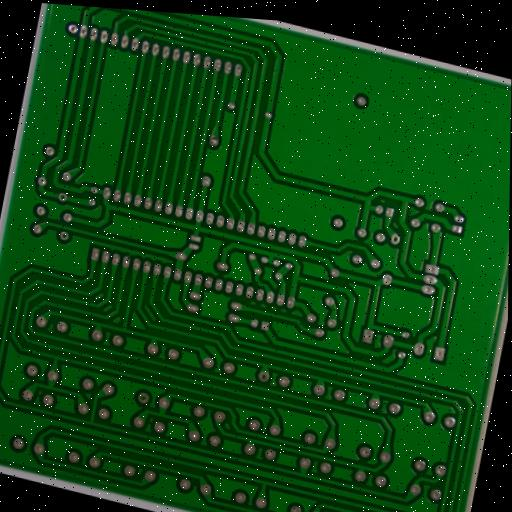missing_hole: (135, 388, 151, 408), (57, 229, 71, 243), (257, 368, 270, 383), (388, 232, 401, 247), (56, 190, 69, 204)
